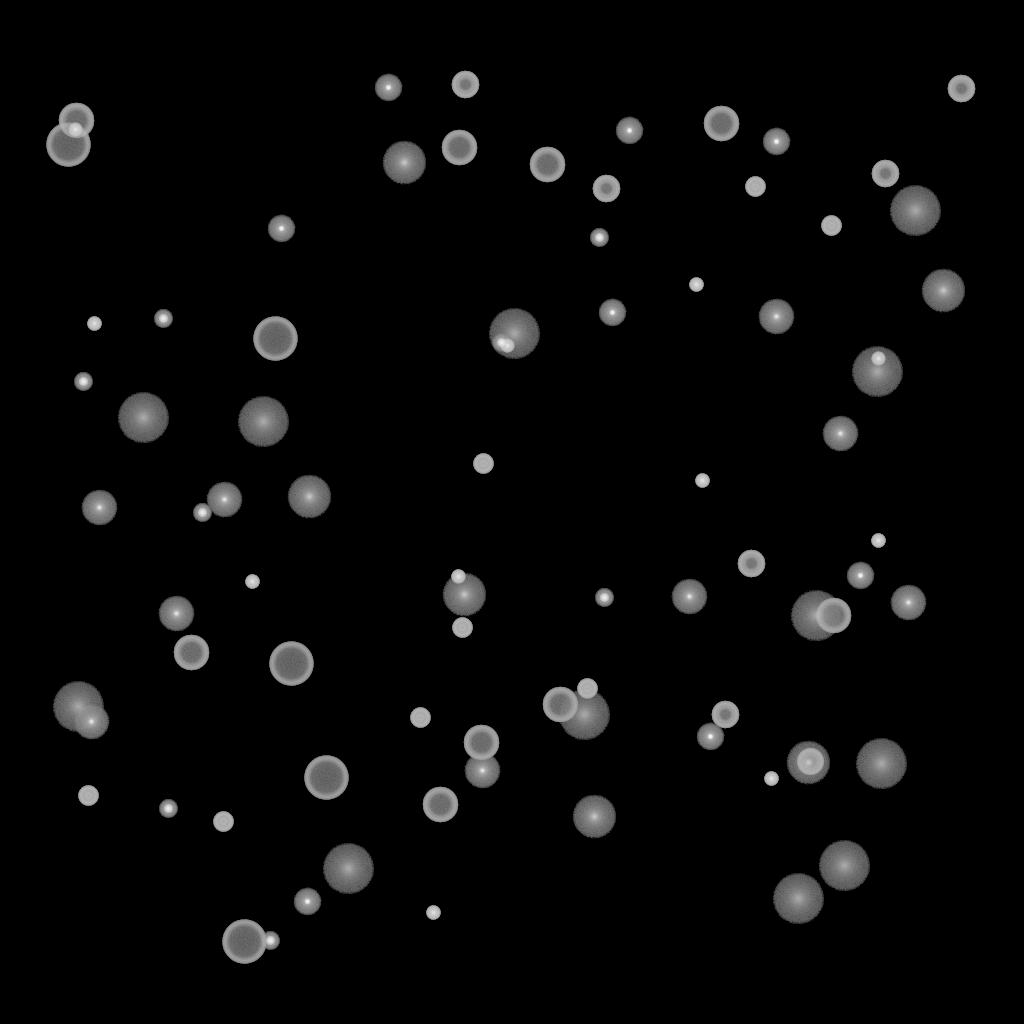depth:-10: (374, 74, 402, 102), (598, 299, 626, 327), (615, 117, 643, 145), (846, 562, 874, 590), (267, 215, 295, 243), (696, 723, 724, 751), (762, 128, 790, 156), (293, 888, 321, 916)
depth:-20: (193, 504, 211, 522), (159, 800, 177, 818), (492, 334, 510, 352), (590, 229, 608, 247), (261, 932, 279, 950), (74, 373, 92, 391), (595, 589, 613, 607), (154, 310, 172, 328)
depth:-30: (695, 474, 709, 488), (68, 123, 82, 137), (871, 352, 885, 366), (87, 317, 101, 331), (451, 570, 465, 584), (871, 534, 885, 548), (689, 278, 703, 292), (764, 772, 778, 786), (500, 339, 514, 353), (245, 575, 259, 589), (426, 906, 440, 920)
depth:-40: (213, 812, 233, 832), (452, 618, 472, 638), (745, 177, 765, 197), (78, 786, 98, 806), (473, 454, 493, 474), (821, 216, 841, 236), (577, 679, 597, 699), (410, 708, 430, 728)
depth:-50: (871, 160, 899, 188), (592, 175, 620, 203), (796, 748, 824, 776), (451, 71, 479, 99), (947, 75, 975, 103), (737, 550, 765, 578), (711, 701, 739, 729)
depth:-60: (529, 147, 565, 183), (441, 130, 477, 166), (173, 635, 209, 671), (58, 103, 94, 139), (422, 787, 458, 823), (463, 725, 499, 761), (542, 687, 578, 723), (815, 598, 851, 634), (703, 106, 739, 142)
depth:-70: (46, 123, 90, 167), (269, 642, 313, 686), (222, 920, 266, 964), (253, 317, 297, 361), (304, 756, 348, 800)
depth:0: (81, 490, 117, 526), (73, 704, 109, 740), (671, 579, 707, 615), (464, 753, 500, 789), (890, 585, 926, 621), (758, 299, 794, 335), (822, 416, 858, 452), (206, 482, 242, 518), (158, 596, 194, 632)
depth:10: (572, 795, 616, 839), (287, 475, 331, 519), (382, 141, 426, 185), (921, 269, 965, 313), (786, 741, 830, 785), (442, 573, 486, 617)
depth:20: (772, 874, 824, 924), (488, 309, 540, 359), (818, 841, 870, 891), (52, 682, 104, 732), (322, 844, 374, 894), (558, 690, 610, 740), (855, 739, 907, 789), (889, 186, 941, 236), (117, 393, 169, 443), (237, 397, 289, 447), (790, 591, 842, 641), (851, 347, 903, 397)
